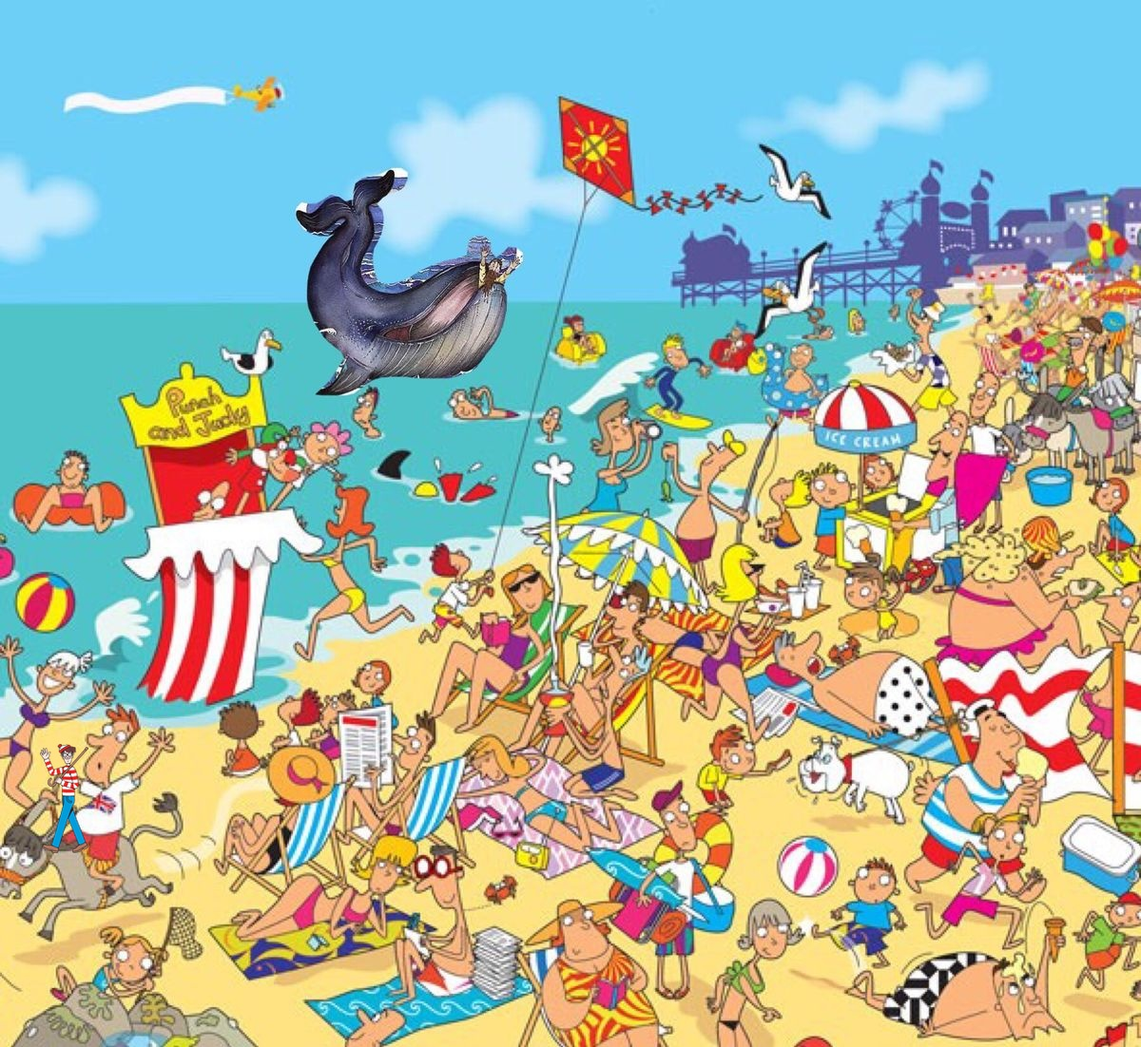waldo: (40, 744, 88, 853)
